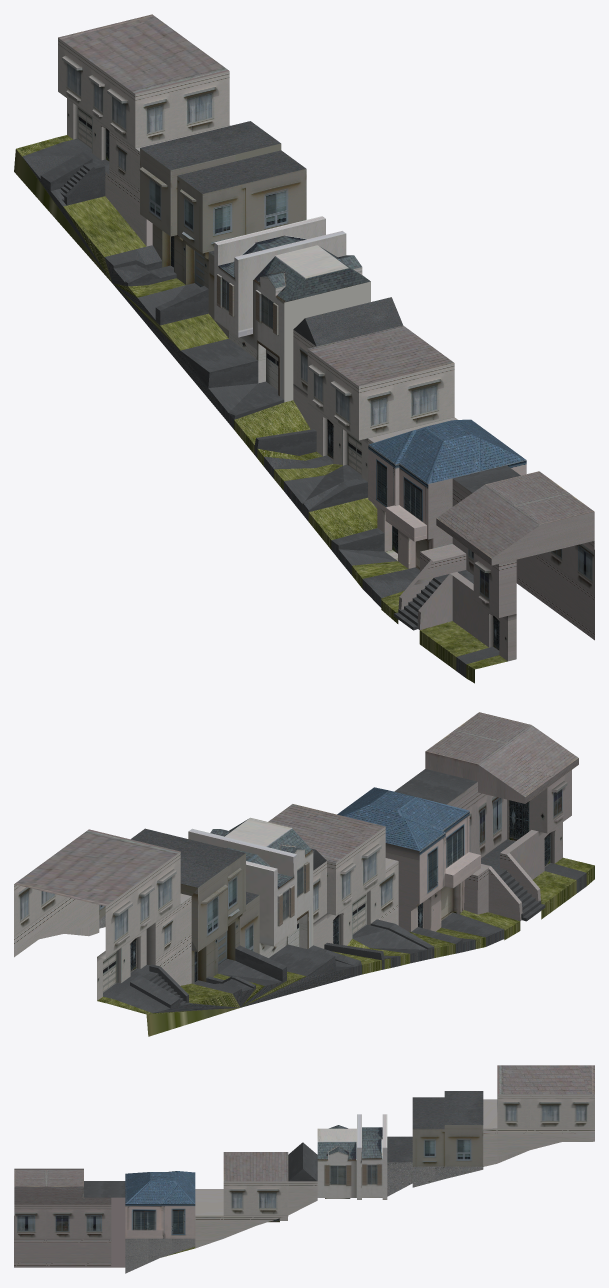
The model's file is sboxbld4_sfw70.obj.
The picture shows the model from 3 angles, top to bottom: view 1: azimuth 30°, elevation 25°; view 2: azimuth 150°, elevation 25°; view 3: azimuth 270°, elevation 25°; orthographic projection. The views are drawn at different scales.
Parts seen in each view (by area): view 1: sboxbld4_sfw70; view 2: sboxbld4_sfw70; view 3: sboxbld4_sfw70.
Boxes of the visible parts, bbox=[...] form: sboxbld4_sfw70: bbox=[14, 14, 594, 683]; sboxbld4_sfw70: bbox=[14, 712, 594, 1036]; sboxbld4_sfw70: bbox=[14, 1065, 594, 1273].
Bounding box in the file's own units: 11.5 × 21.53 × 60.08.
Materials: 15 (14 with a texture image).
